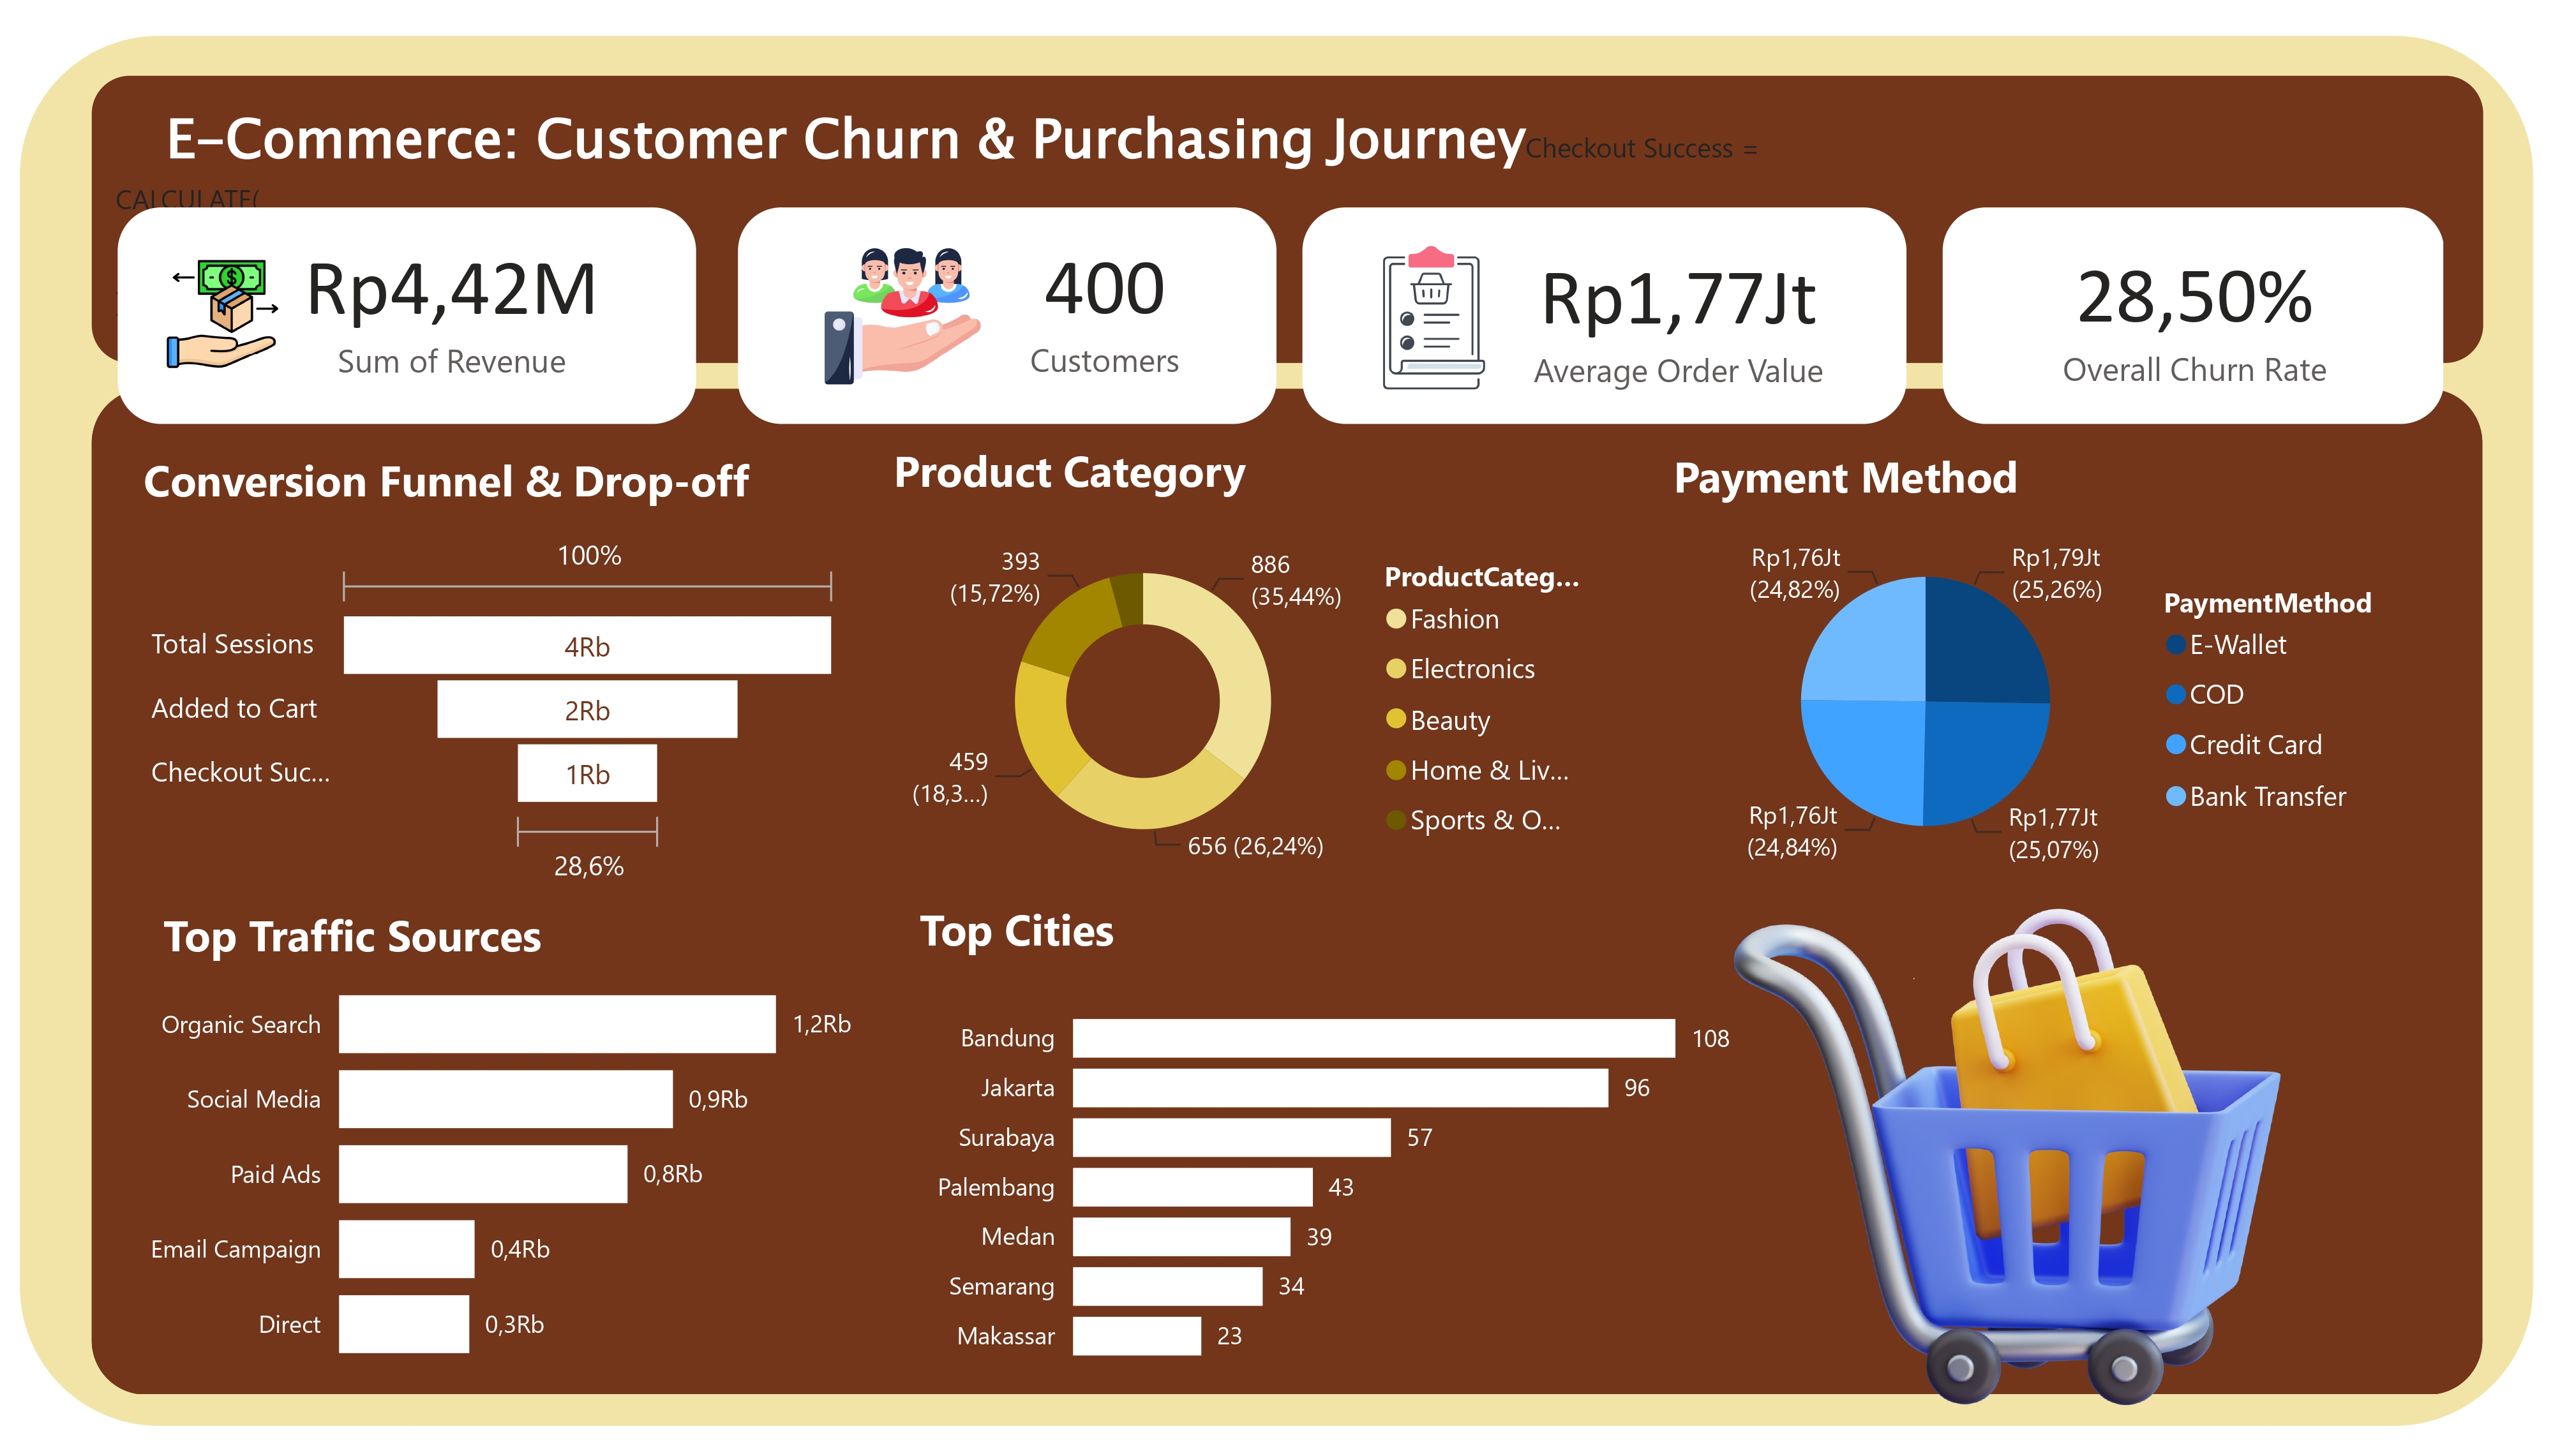

This screenshot's page, from the dashboard's own definition file:
{"tool":"powerbi","page":{"name":"Page 1","canvas":[1280,720],"ordinal":0},"visuals":[{"type":"shape","box":[10.1,13,1260,697],"z":0},{"type":"textbox","box":[45.7,32.9,1198.6,144.3],"z":1000},{"type":"shape","box":[45.7,190,1198.6,504.3],"z":2000},{"type":"funnel","fields":{"Y":["Web_Journey.Total Sessions","Web_Journey.Added to Cart","Web_Journey.Checkout Success"]},"box":[71.4,257.1,355.7,187.1],"z":3000},{"type":"image","box":[851.4,437.1,374.3,275.7],"z":4000},{"type":"textbox","box":[67.1,215.7,340,41.4],"z":5000},{"type":"clusteredBarChart","fields":{"Category":["Web_Journey.TrafficSource"],"Y":["CountNonNull(Web_Journey.SessionID)"]},"box":[64.3,465.7,395.7,228.6],"z":6000},{"type":"shape","box":[58.6,98.6,290,108.6],"z":7000},{"type":"card","fields":{"Values":["Sum(Transactions.Amount_IDR)"]},"box":[82.9,87.1,287.1,120],"z":8000},{"type":"shape","box":[652.9,98.6,302.9,108.6],"z":9000},{"type":"shape","box":[370,98.6,270,108.6],"z":10000},{"type":"shape","box":[974.3,98.6,251.4,108.6],"z":11000},{"type":"card","fields":{"Values":["Count(Customers.CustomerID)"]},"box":[488.6,94.3,130,105.7],"z":12000},{"type":"card","fields":{"Values":["Avg(Transactions.Amount_IDR)"]},"box":[722.9,98.6,237.1,105.7],"z":13000},{"type":"card","fields":{"Values":["Customers.Overall Churn Rate"]},"box":[998.6,104.3,202.9,94.3],"z":14000},{"type":"textbox","box":[77.1,444.3,340,41.4],"z":15000},{"type":"donutChart","fields":{"Category":["Transactions.ProductCategory"],"Y":["CountNonNull(Transactions.ProductCategory)"]},"box":[447.1,252.9,357.1,187.1],"z":16000},{"type":"textbox","box":[442.9,211.4,340,41.4],"z":17000},{"type":"textbox","box":[834.3,214.3,340,41.4],"z":18000},{"type":"image","box":[71.4,118.6,81.4,67.1],"z":19000},{"type":"pieChart","fields":{"Category":["Transactions.PaymentMethod"],"Y":["Avg(Transactions.Amount_IDR)"]},"box":[841.4,255.7,362.9,181.4],"z":20000},{"type":"clusteredBarChart","fields":{"Category":["Customers.Location"],"Y":["CountNonNull(Customers.CustomerID)"]},"box":[460,482.9,418.6,207.1],"z":21000},{"type":"textbox","box":[455.7,441.4,340,41.4],"z":22000},{"type":"image","box":[400,107.1,105.7,92.9],"z":22001},{"type":"image","box":[675.7,111.4,85.7,85.7],"z":22002}]}

Visuals, with their boxes in screenshot pixels (x1, y1, x2, y2), scaled from the page's 1280x720 canvas onto the 2553x1456 screenshot:
shape: (20,26,2533,1436)
textbox: (91,66,2482,359)
shape: (91,384,2482,1404)
funnel - Web_Journey.Total Sessions x Web_Journey.Added to Cart: (142,520,852,898)
image: (1698,884,2444,1441)
textbox: (134,436,812,520)
clusteredBarChart - Web_Journey.TrafficSource x CountNonNull(Web_Journey.SessionID): (128,942,918,1404)
shape: (117,200,695,419)
card - Sum(Transactions.Amount_IDR): (165,176,738,419)
shape: (1302,200,1906,419)
shape: (738,200,1276,419)
shape: (1943,200,2444,419)
card - Count(Customers.CustomerID): (975,191,1234,405)
card - Avg(Transactions.Amount_IDR): (1442,200,1915,413)
card - Customers.Overall Churn Rate: (1992,211,2397,401)
textbox: (154,898,832,982)
donutChart - Transactions.ProductCategory x CountNonNull(Transactions.ProductCategory): (892,512,1604,890)
textbox: (883,427,1562,511)
textbox: (1664,433,2342,517)
image: (142,240,305,376)
pieChart - Transactions.PaymentMethod x Avg(Transactions.Amount_IDR): (1678,517,2402,884)
clusteredBarChart - Customers.Location x CountNonNull(Customers.CustomerID): (918,977,1753,1395)
textbox: (909,893,1587,976)
image: (798,216,1008,405)
image: (1348,225,1518,399)
